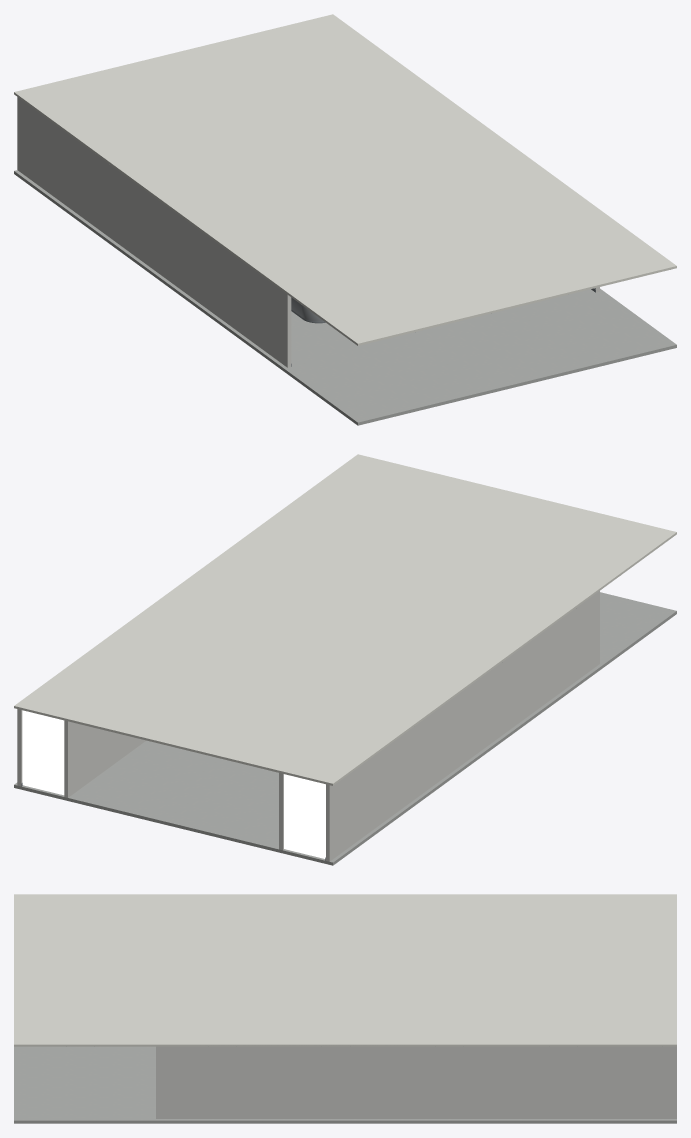
The model's file is nurse-station-silver-v1.glb.
The picture shows the model from 3 angles, top to bottom: view 1: azimuth 30°, elevation 25°; view 2: azimuth 150°, elevation 25°; view 3: azimuth 270°, elevation 25°; orthographic projection. The views are drawn at different scales.
Visible parts, largest first — view 1: Ceiling, 地板, Architecture_SilverV1_wall; view 2: Ceiling, Architecture_SilverV1_wall, 地板, Architecture_SilverV1_sky; view 3: Ceiling, Architecture_SilverV1_wall, 地板.
Boxes of the visible parts, x1,y1,x2,y2 form: Ceiling: [14, 14, 676, 345]; 地板: [14, 170, 676, 425]; Architecture_SilverV1_wall: [17, 97, 599, 367]; Ceiling: [14, 454, 676, 785]; Architecture_SilverV1_wall: [17, 591, 599, 861]; 地板: [14, 592, 676, 865]; Architecture_SilverV1_sky: [22, 710, 325, 858]; Ceiling: [14, 894, 676, 1046]; Architecture_SilverV1_wall: [156, 1046, 676, 1118]; 地板: [14, 1046, 676, 1123].
Bounding box in the file's own units: 15 × 3.68 × 28.
16 materials, 5 textured.
